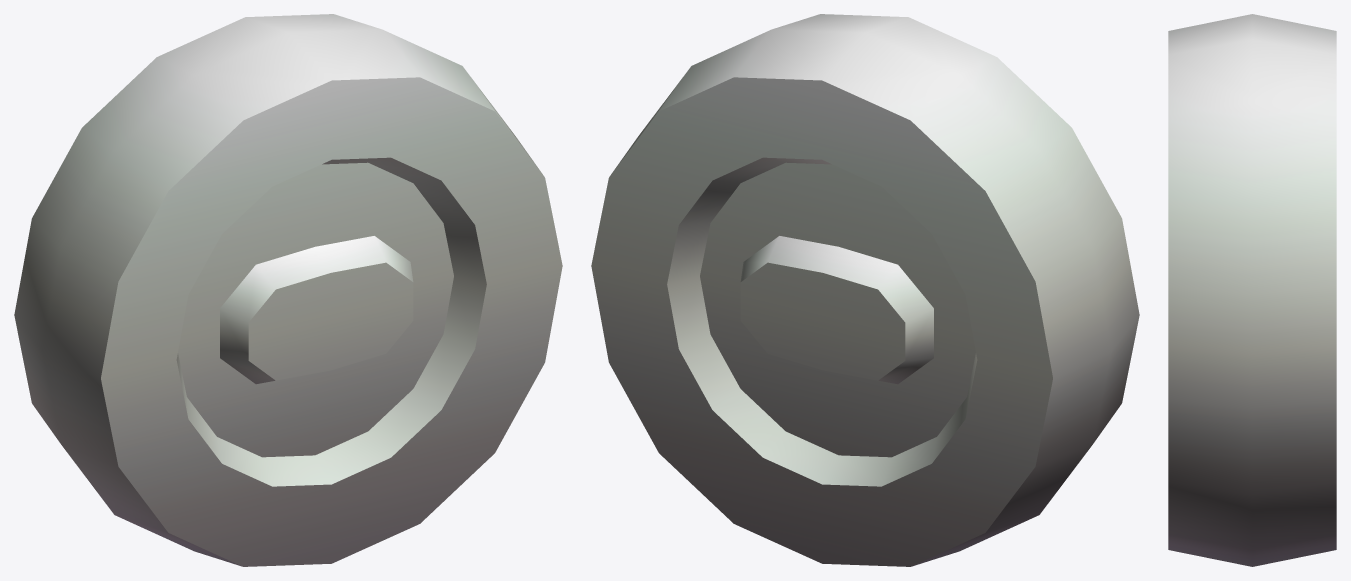
File: Silver_Coin_02.glb
3 views of the same model, side by side, from view 1: azimuth 30°, elevation 25°; view 2: azimuth 150°, elevation 25°; view 3: azimuth 270°, elevation 25° (orthographic). The views are drawn at different scales.
Visible parts, largest first — view 1: Silver_Coin_02; view 2: Silver_Coin_02; view 3: Silver_Coin_02.
Boxes of the visible parts, bbox=[...] form: Silver_Coin_02: bbox=[14, 14, 562, 566]; Silver_Coin_02: bbox=[591, 14, 1139, 566]; Silver_Coin_02: bbox=[1168, 14, 1336, 566].
Bounding box in the file's own units: 0.3685 × 0.3685 × 0.1122.
Materials: 1 (1 with a texture image).
